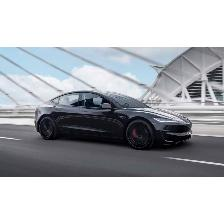EV: (36, 91, 195, 153)
